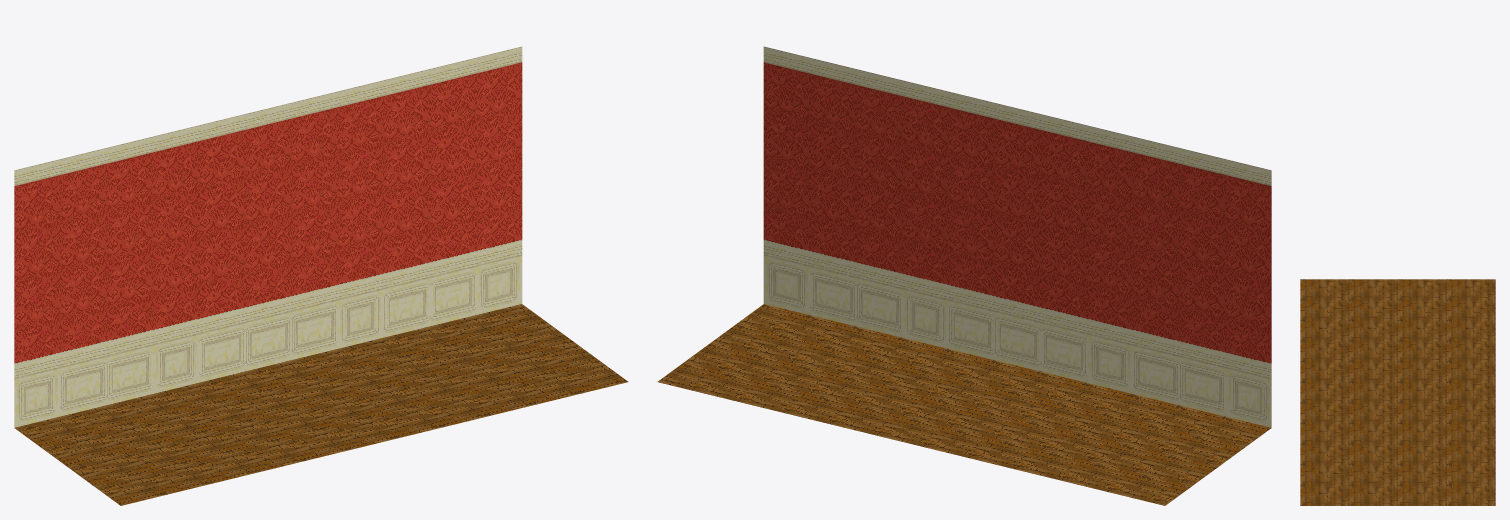
File: MUS-HALLWAY.gltf
3 views of the same model, side by side, from view 1: azimuth 30°, elevation 25°; view 2: azimuth 150°, elevation 25°; view 3: azimuth 270°, elevation 25° (orthographic). The views are drawn at different scales.
Bounding box in the file's own units: 44 × 24 × 16.
2 materials, 2 textured.
